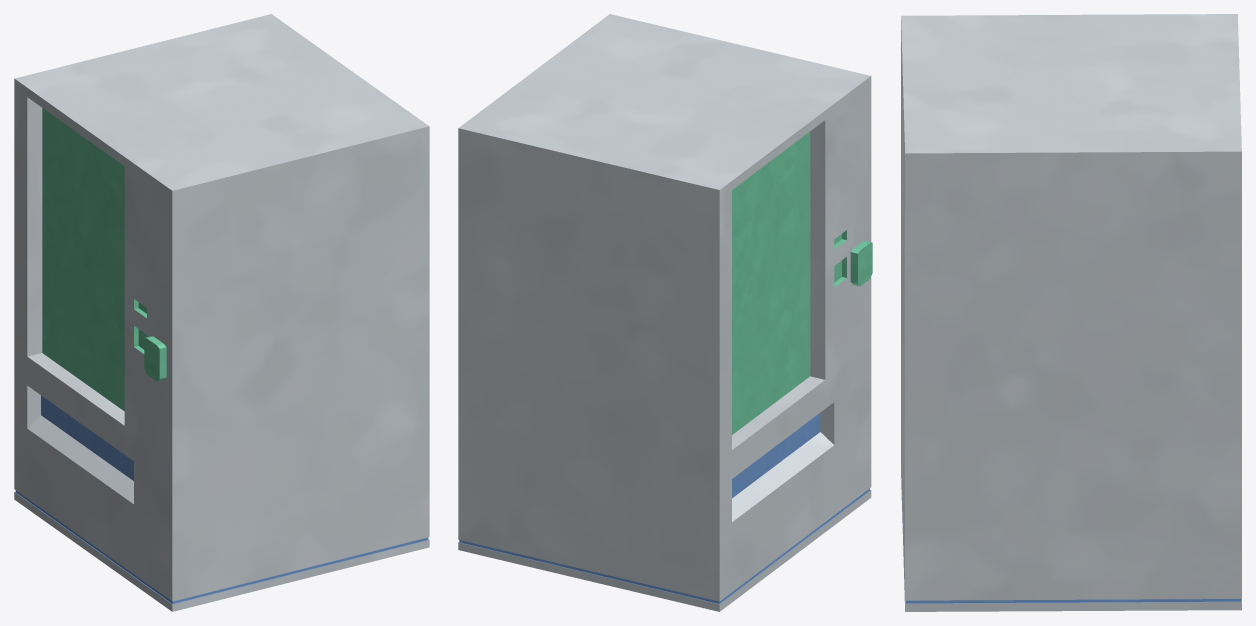
Rendered from Automat.fbx.
3 views of the same model, side by side, from view 1: azimuth 30°, elevation 25°; view 2: azimuth 150°, elevation 25°; view 3: azimuth 270°, elevation 25° (orthographic). The views are drawn at different scales.
Visible parts, largest first — view 1: Automat; view 2: Automat; view 3: Automat.
Part boxes in pixels (x1,y1,x2,y2): Automat: (14,14,429,611); Automat: (458,14,872,611); Automat: (901,14,1241,611).
Size of the model in its own units: 6.09 by 9.2 by 6.2.
